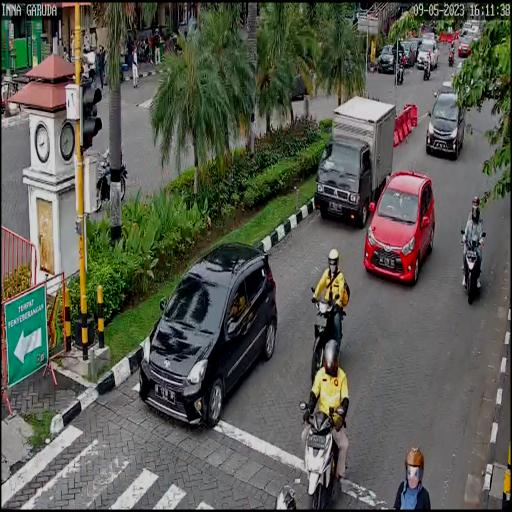mobil: (138, 239, 278, 423), (312, 93, 398, 228), (362, 168, 435, 290), (425, 89, 466, 160)
motor: (300, 383, 348, 512), (310, 282, 353, 392), (460, 222, 489, 308)
